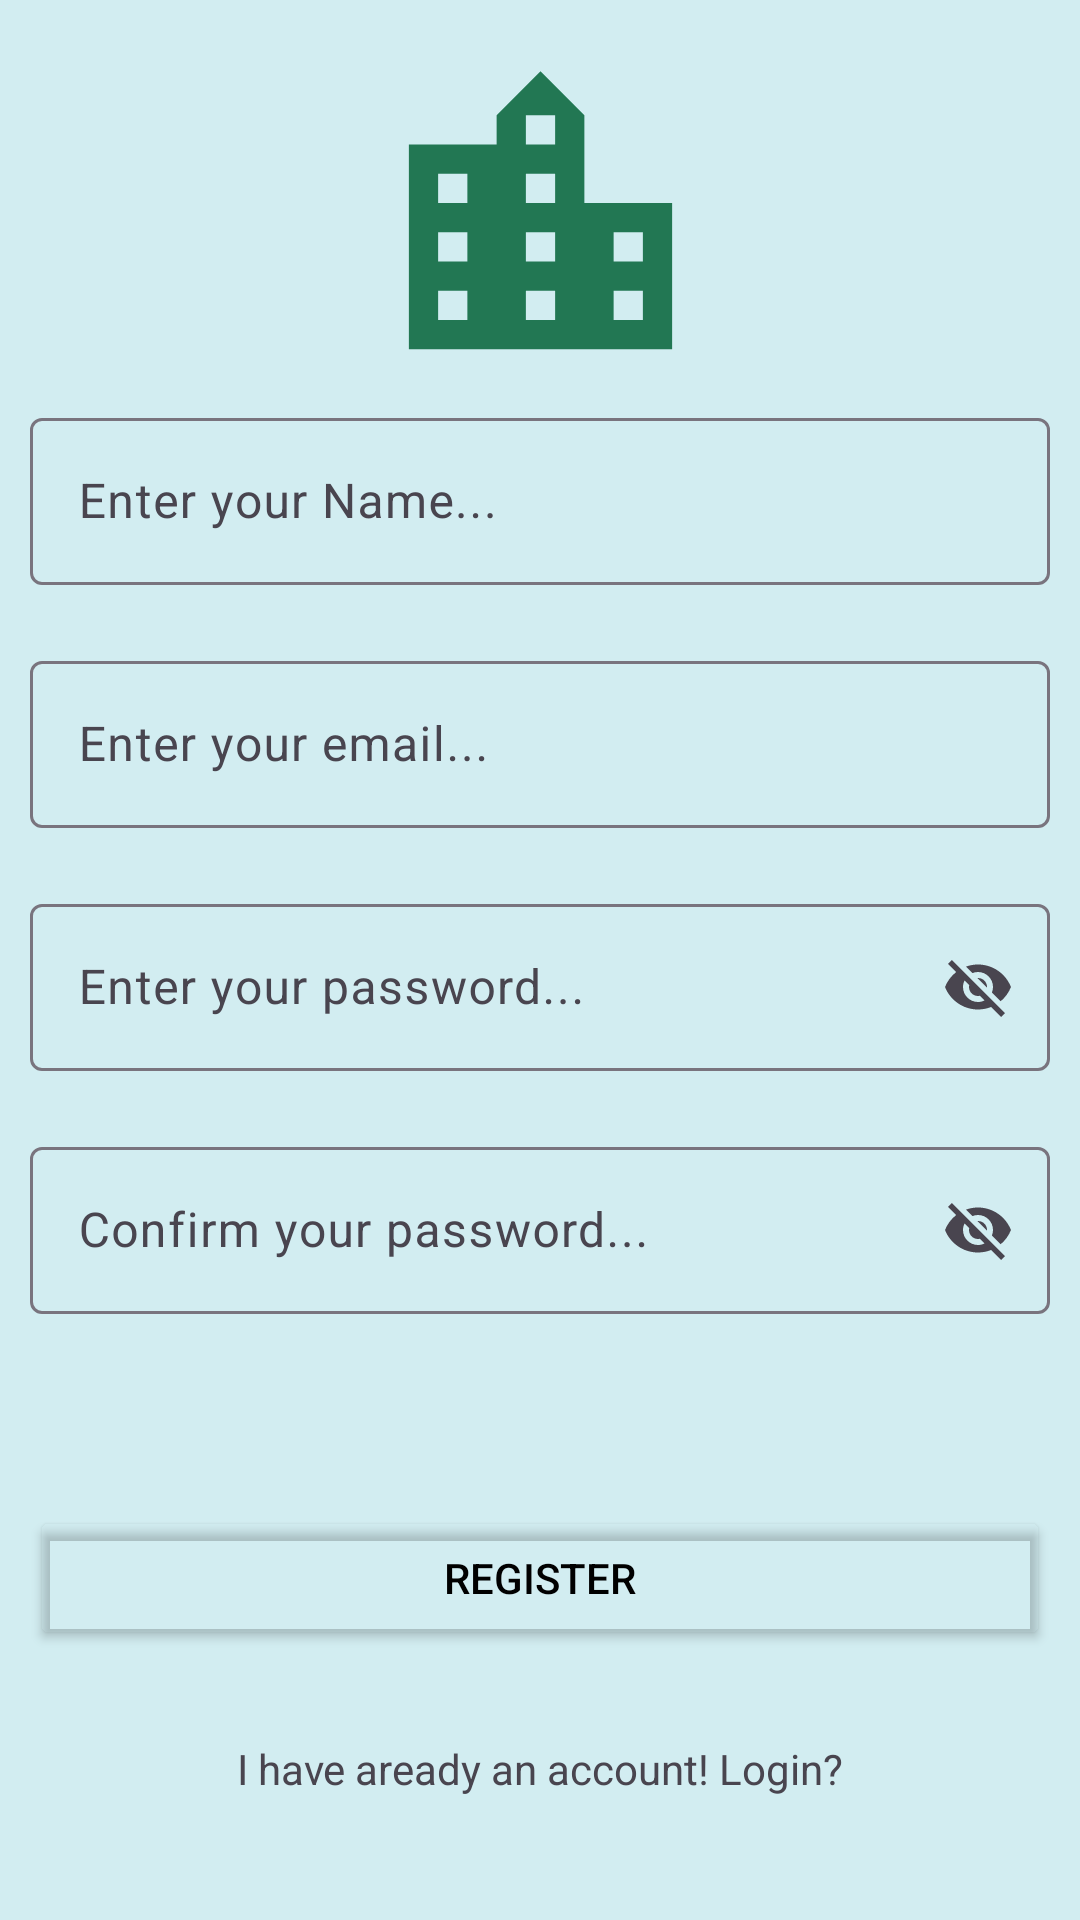

Icons on this 1080w x 1920h Android screen, each with the point to tap as point (x, y):
location city: point (540, 210)
